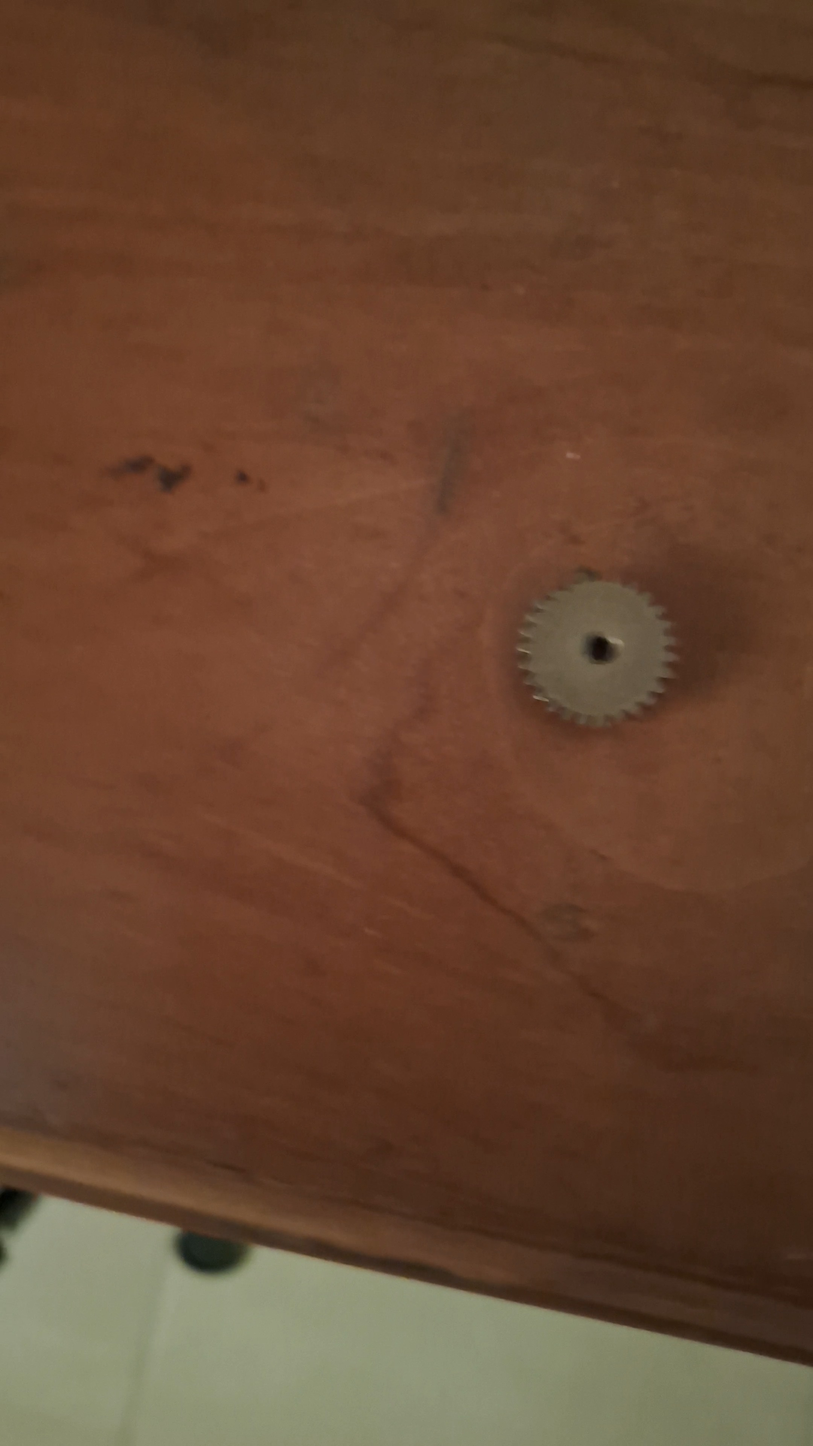spur gear: (518, 576, 675, 726)
